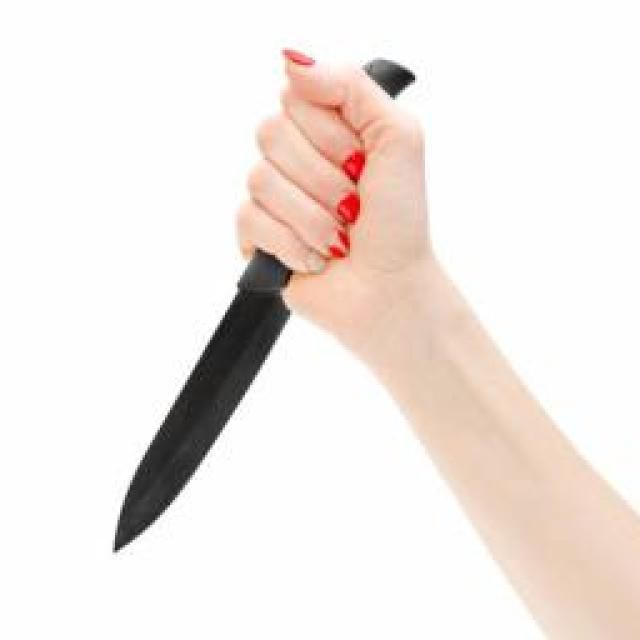knife: (110, 45, 421, 559)
